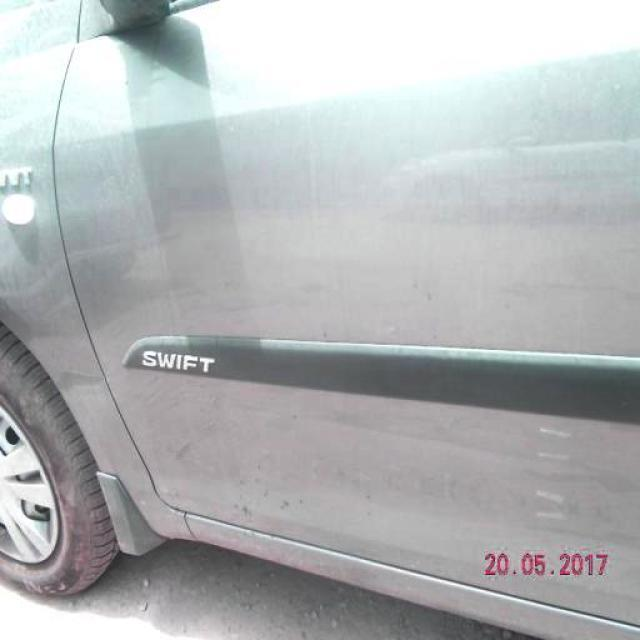car damage: (531, 418, 574, 525)
